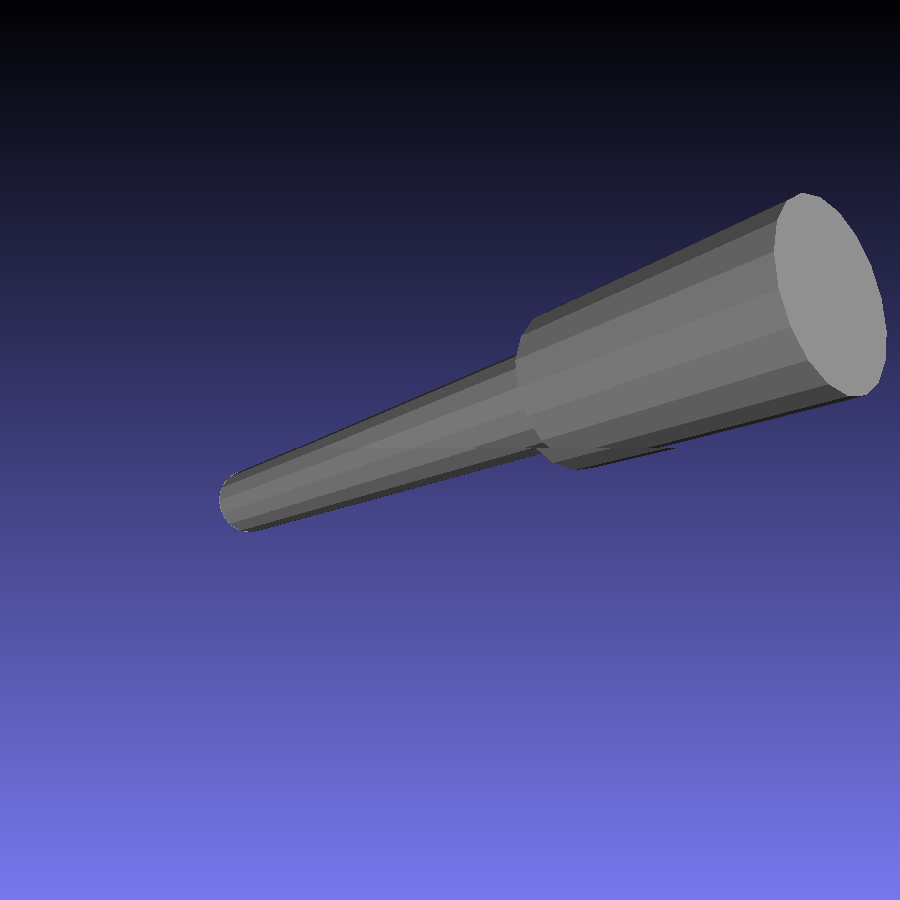cargo_g: (218, 192, 887, 531)
